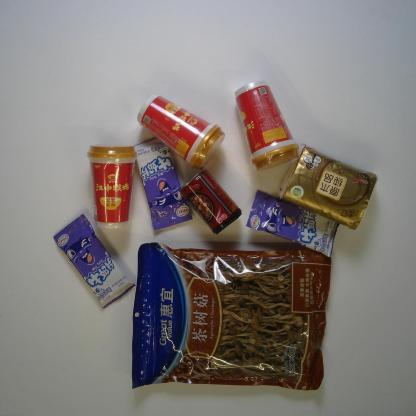Candy: (53, 214, 135, 309), (245, 190, 341, 258), (132, 137, 193, 231)
Canned Food: (179, 168, 243, 235)
Dried Food: (131, 241, 332, 391)
Instant Drink: (137, 93, 225, 172), (233, 80, 300, 172), (86, 143, 138, 230)
Tissue: (277, 144, 378, 230)
